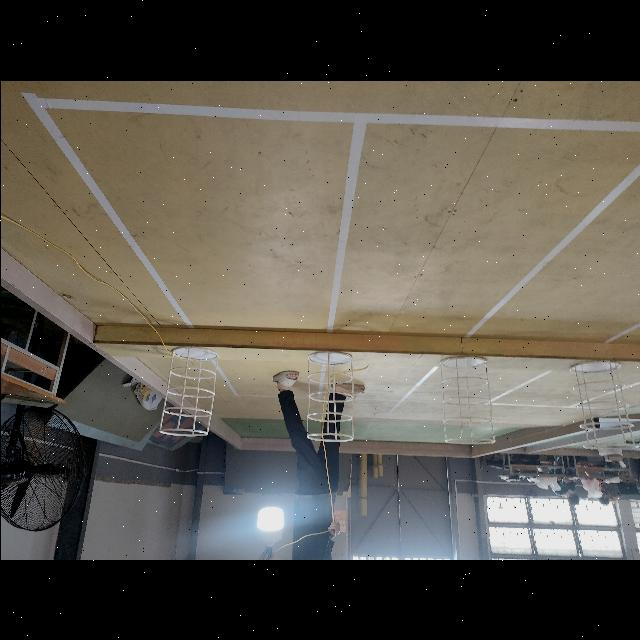S: (570, 356, 638, 460), (157, 344, 220, 438), (440, 354, 496, 446), (303, 350, 355, 446)
